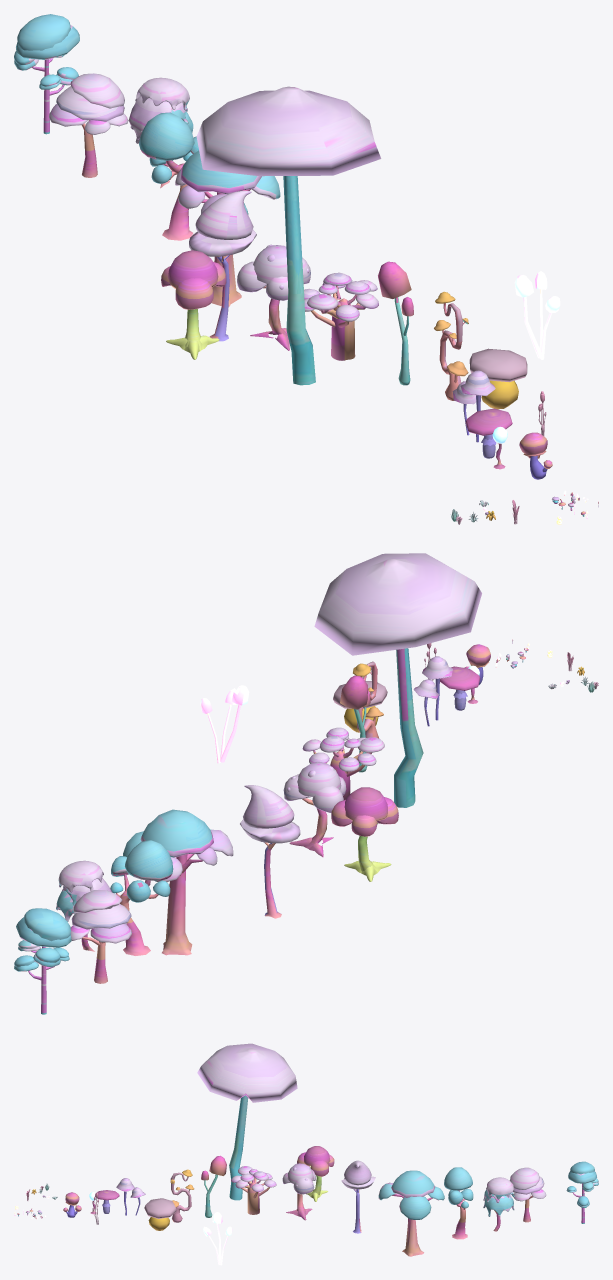
File: coral06.fbx
The picture shows the model from 3 angles, top to bottom: view 1: azimuth 30°, elevation 25°; view 2: azimuth 150°, elevation 25°; view 3: azimuth 270°, elevation 25°; orthographic projection. The views are drawn at different scales.
Visible parts, largest first — view 1: SetaXL_12, SetaXL_09, SetaXL_04, SetaXL_11, SetaXL_07, SetaXL_13, SetaXL_03, SetaXL_01, SetaXL_06, SetaXL_08, SetaM05, SetaXL_02 (+6 smaller); view 2: SetaXL_12, SetaXL_03, SetaXL_13, SetaXL_11, SetaXL_09, SetaXL_04, SetaXL_07, SetaXL_06, SetaXL_01, SetaXL_08, SetaXL_05, SetaXL_10 (+5 smaller); view 3: SetaXL_12, SetaXL_03, SetaXL_13, SetaXL_01, SetaXL_09, SetaXL_08, SetaXL_06, SetaXL_07, SetaXL_11, SetaXL_04, SetaM05, SetaXL_02 (+4 smaller).
Boxes of the visible parts, x1,y1,x2,y2 form: SetaXL_12: (196,86,381,385); SetaXL_09: (49,73,128,177); SetaXL_04: (189,191,256,341); SetaXL_11: (14,14,79,134); SetaXL_07: (161,250,226,359); SetaXL_13: (139,112,198,240); SetaXL_03: (175,150,280,306); SetaXL_01: (304,272,378,360); SetaXL_06: (237,244,310,350); SetaXL_08: (128,77,193,188); SetaM05: (469,348,527,409); SetaXL_02: (378,261,413,385); SetaXL_12: (314,553,481,807); SetaXL_03: (123,809,233,955); SetaXL_13: (110,840,173,955); SetaXL_11: (14,908,71,1014); SetaXL_09: (70,890,131,983); SetaXL_04: (240,785,300,918); SetaXL_07: (331,787,398,881); SetaXL_06: (283,761,346,857); SetaXL_01: (302,727,384,799); SetaXL_08: (56,860,111,951); SetaXL_05: (126,811,233,954); SetaXL_10: (200,685,249,763); SetaXL_12: (197,1043,297,1200); SetaXL_03: (378,1170,444,1256); SetaXL_13: (444,1167,473,1239); SetaXL_01: (231,1166,276,1214); SetaXL_09: (509,1167,546,1222); SetaXL_08: (483,1177,514,1231); SetaXL_06: (282,1163,315,1220); SetaXL_07: (297,1146,334,1201); SetaXL_11: (566,1161,598,1223); SetaXL_04: (341,1160,375,1233); SetaM05: (144,1198,176,1230); SetaXL_02: (201,1155,226,1217).
Size of the model in its own units: 31132 by 31707 by 93213.
